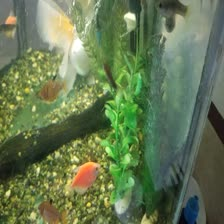Cuezo: (28, 0, 100, 87)
Guppy: (146, 0, 190, 22)
Plano: (63, 161, 103, 194)
Transparente: (34, 77, 67, 102)
